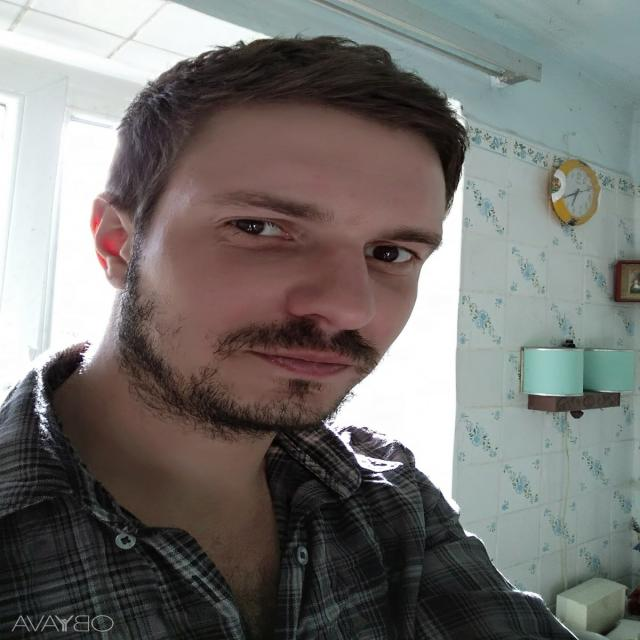earlobe: (89, 191, 137, 289)
